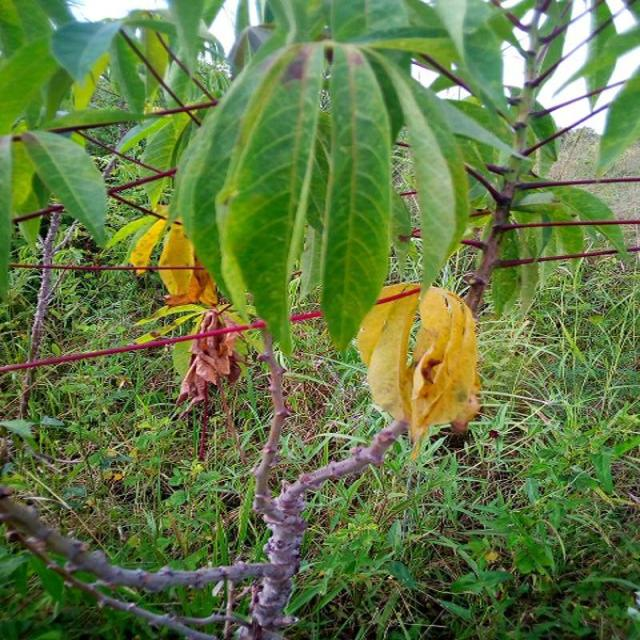cassava leaf: (318, 41, 392, 354), (356, 280, 482, 458)
